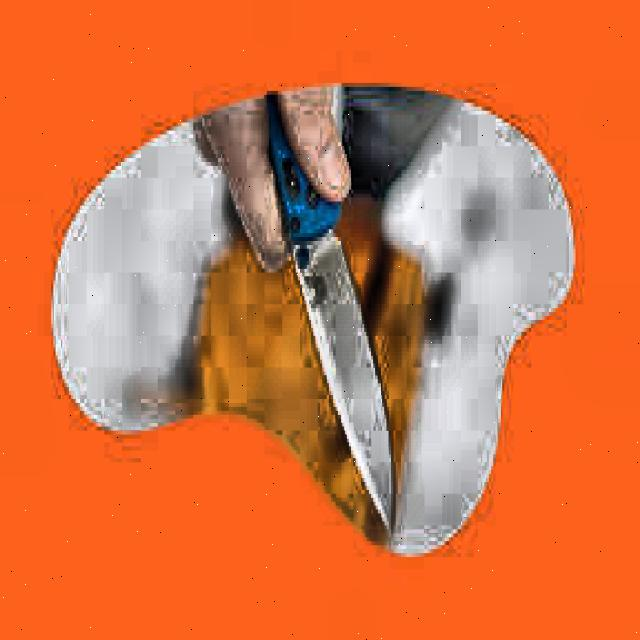knife: (268, 96, 397, 540)
